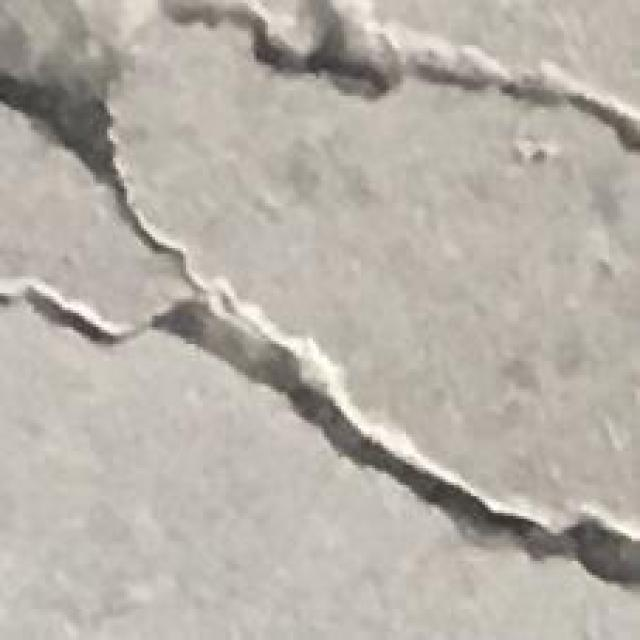Crack: (3, 3, 640, 578)
